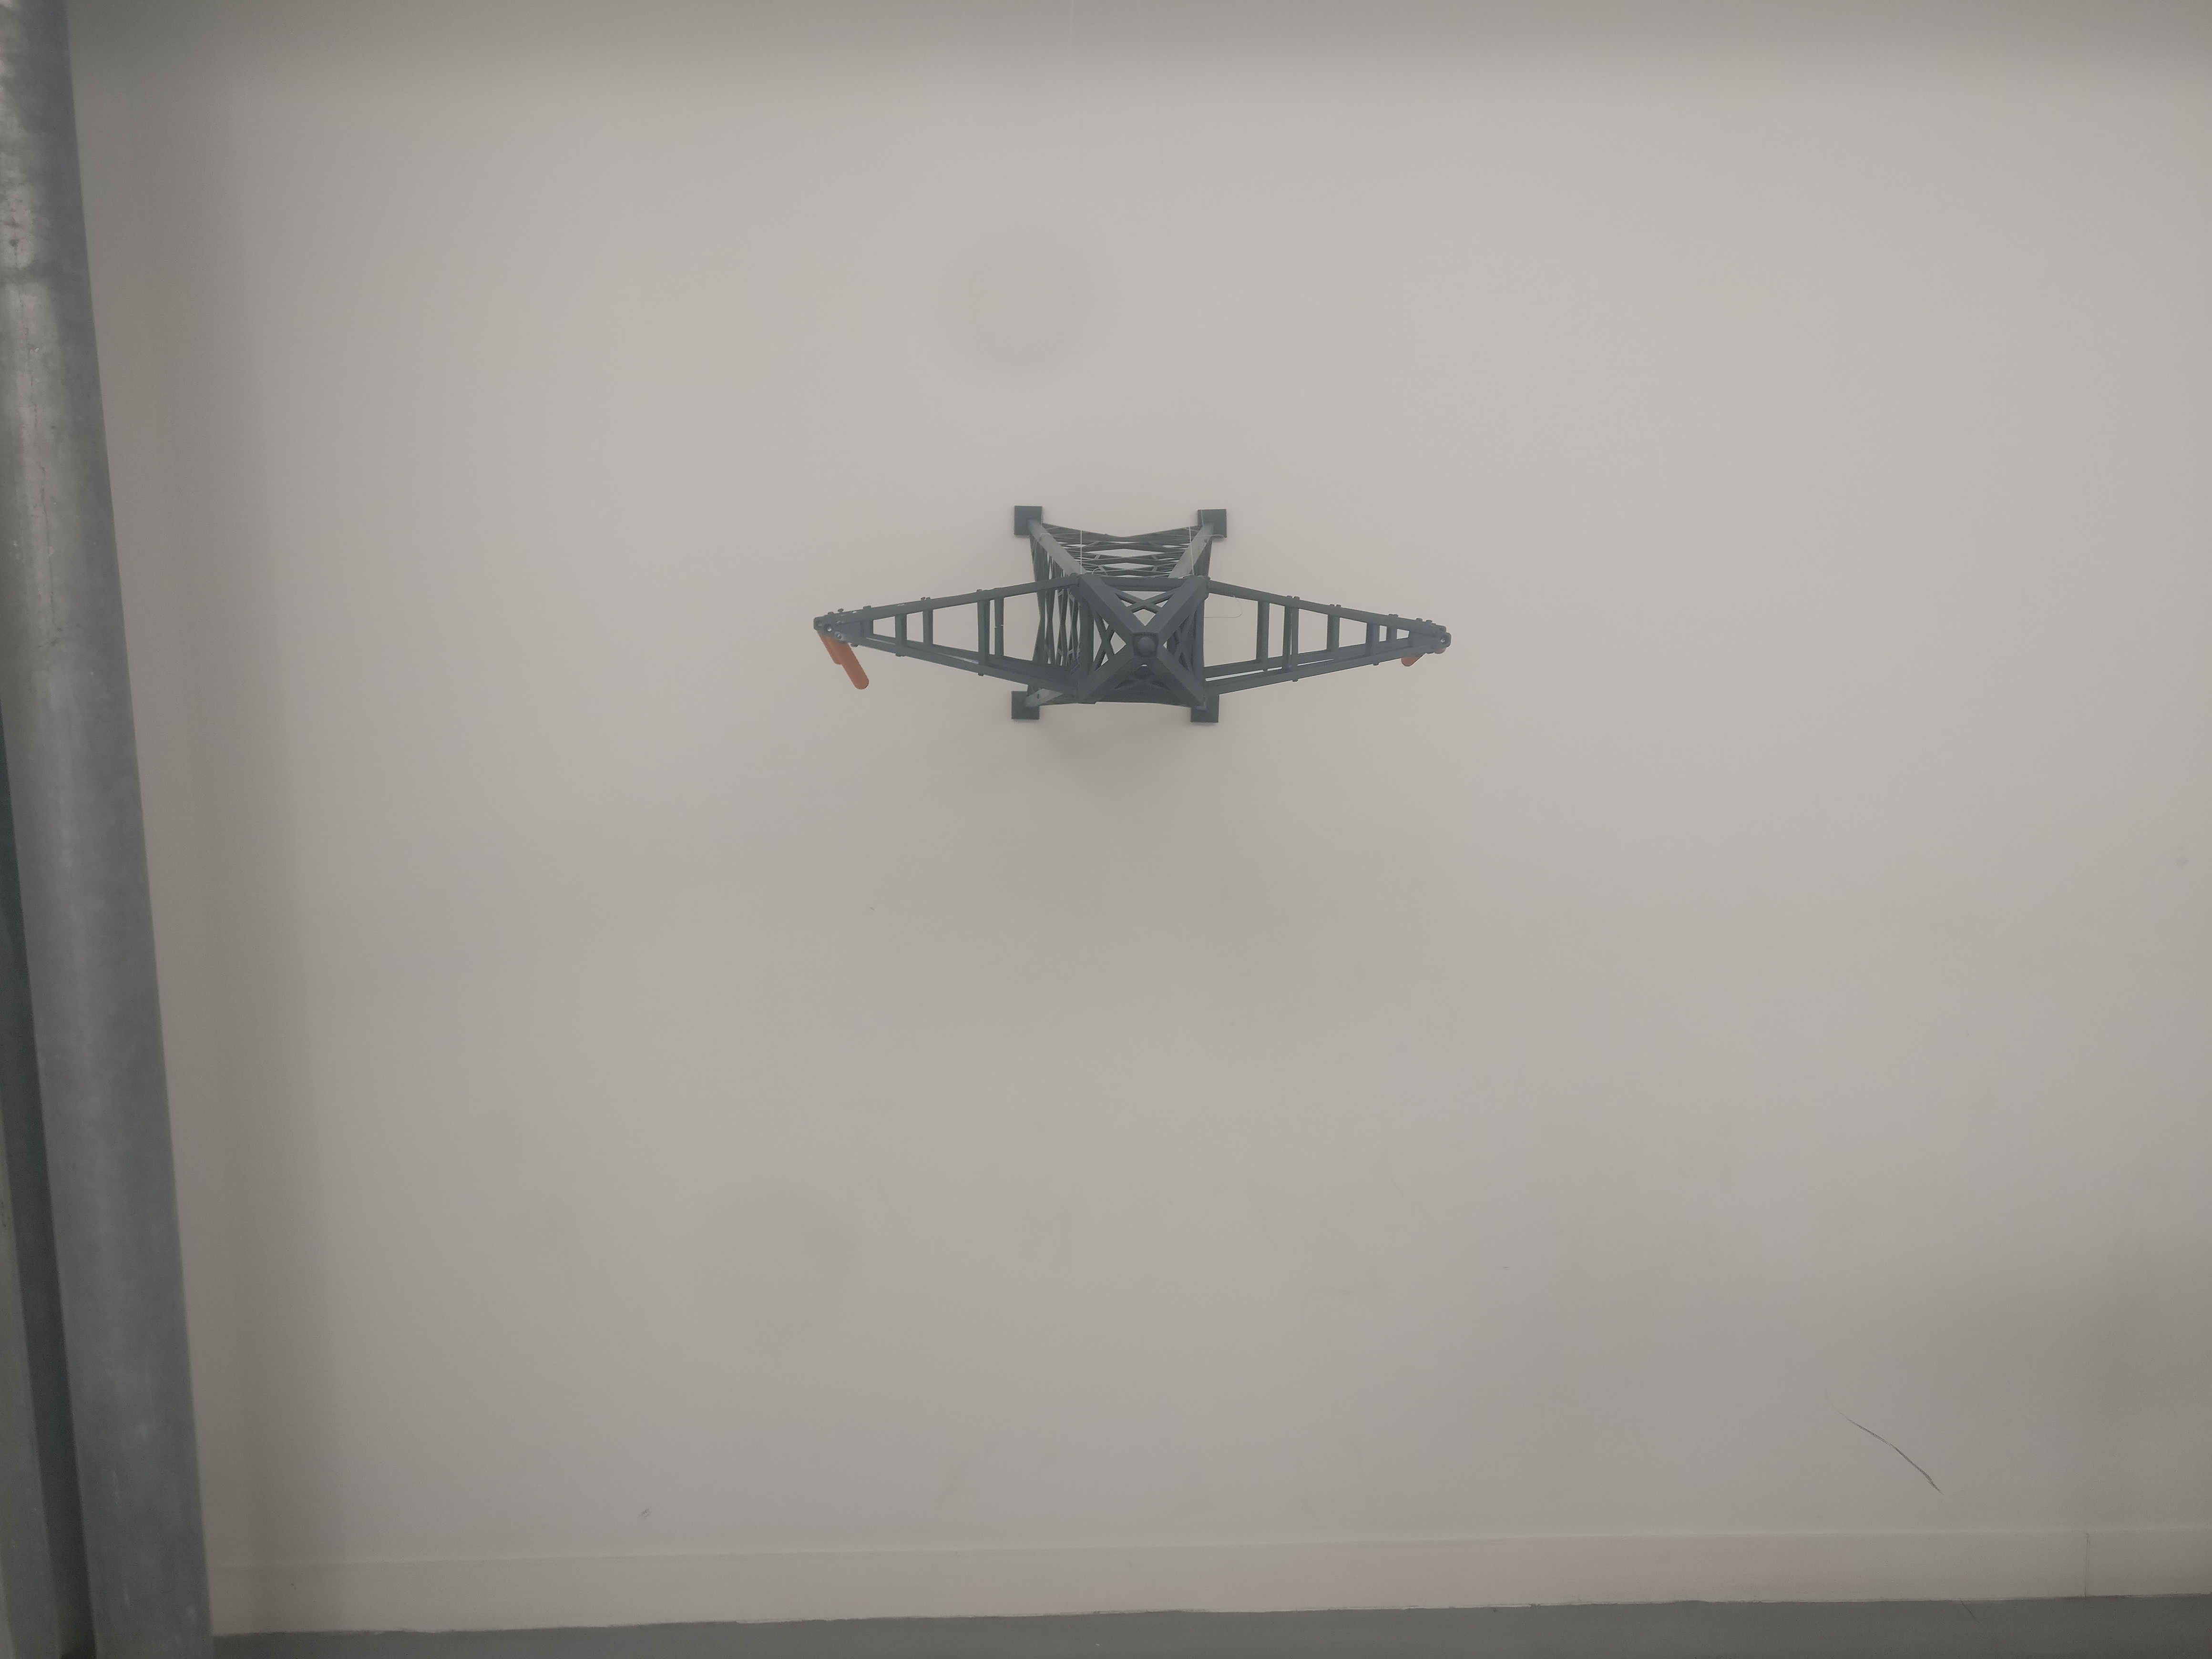pylon_phy: (812, 573, 1454, 704)
